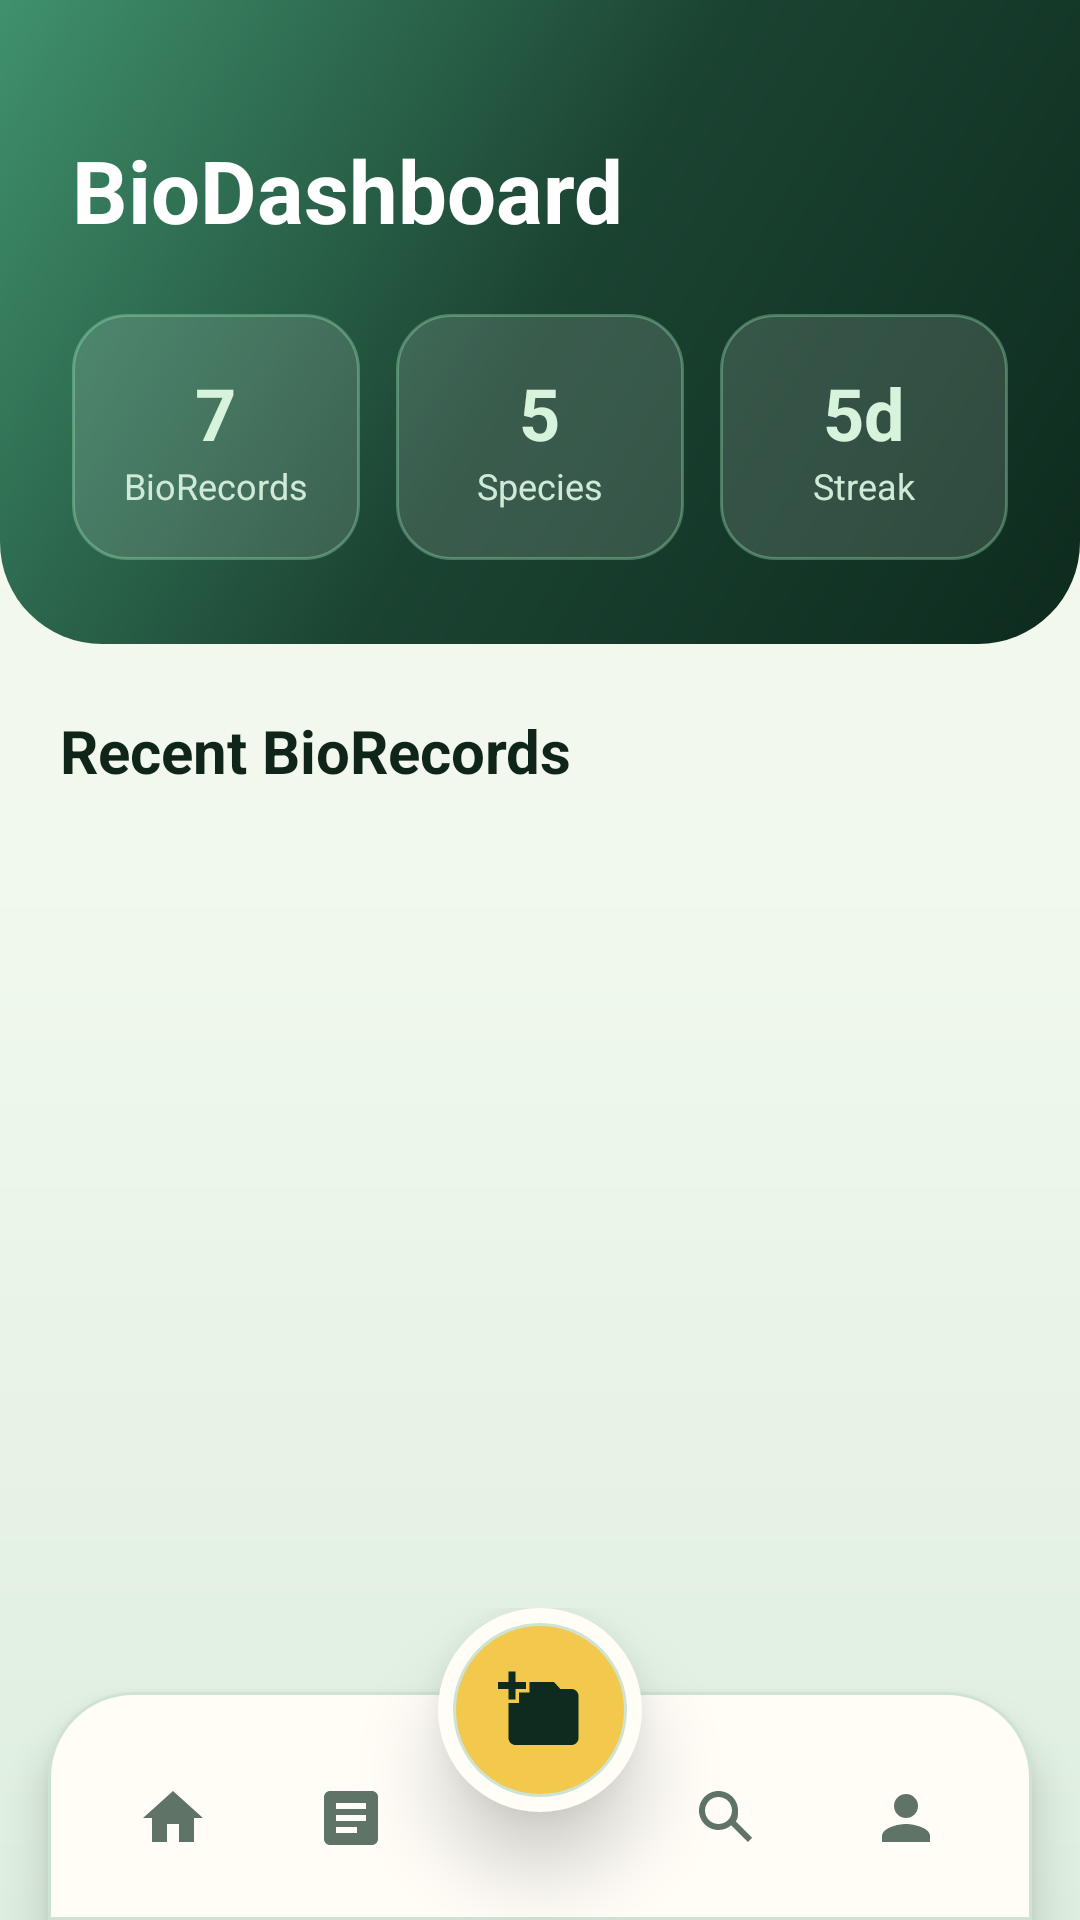

Named icons in this screenshot (1080 × 1920) and their bounding boxes, (x1, y1, x2, y2):
Home: (143, 1791, 203, 1842)
Profile: (882, 1794, 930, 1842)
Records: (324, 1791, 378, 1845)
Search: (699, 1791, 752, 1842)
